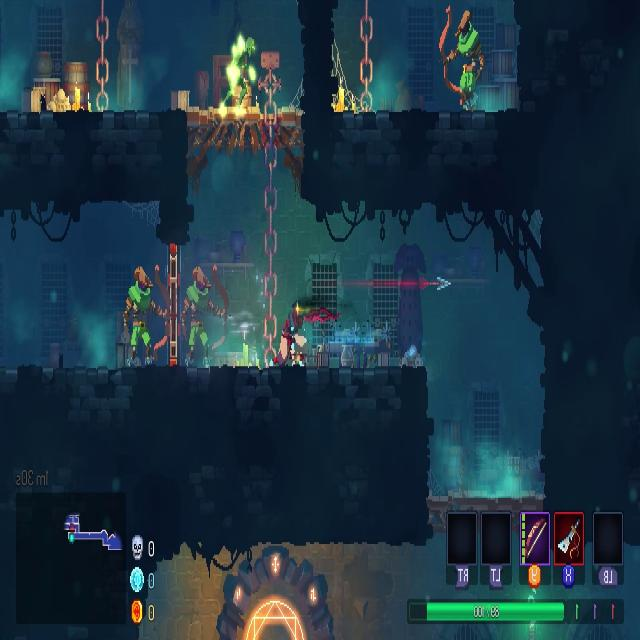agents: (278, 303, 306, 369)
enemy_archer: (441, 11, 486, 111), (121, 263, 161, 365), (184, 263, 220, 367)
enemy_green_puncher: (227, 34, 257, 118)
